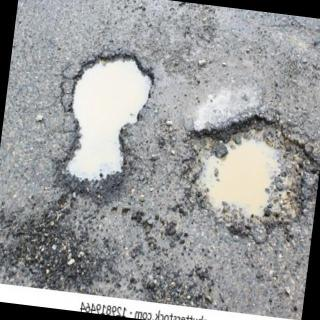pothole: (179, 113, 318, 241), (66, 55, 153, 182)
